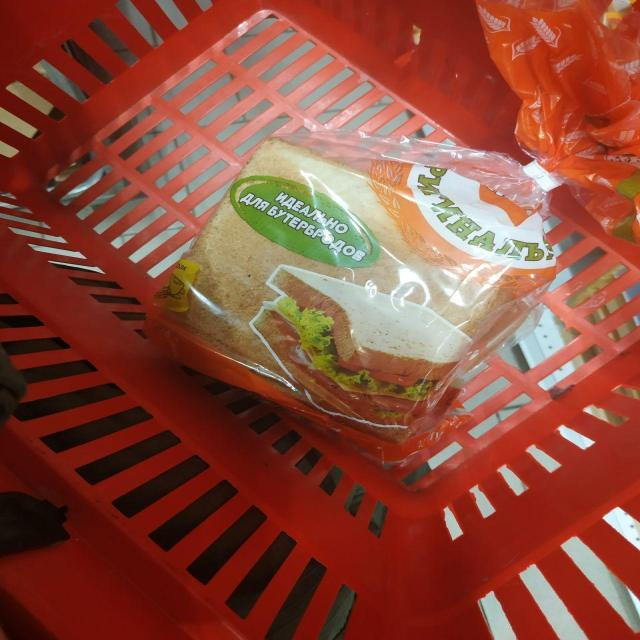Bread: (147, 0, 640, 466)
